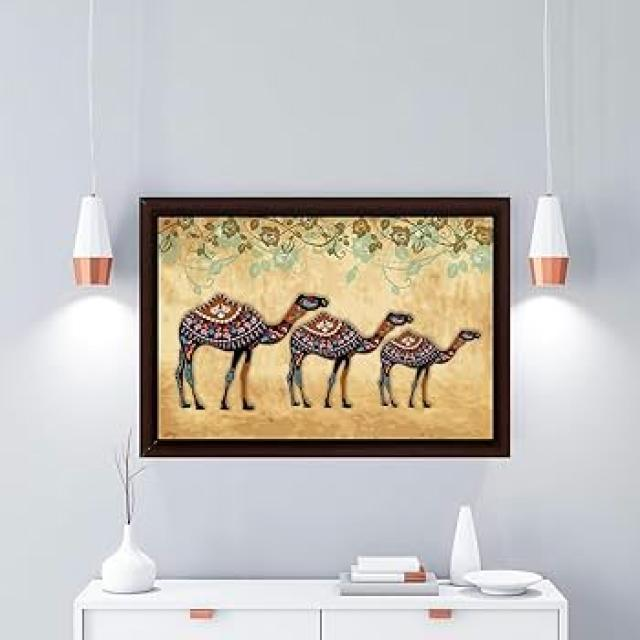painting: (139, 195, 511, 456)
